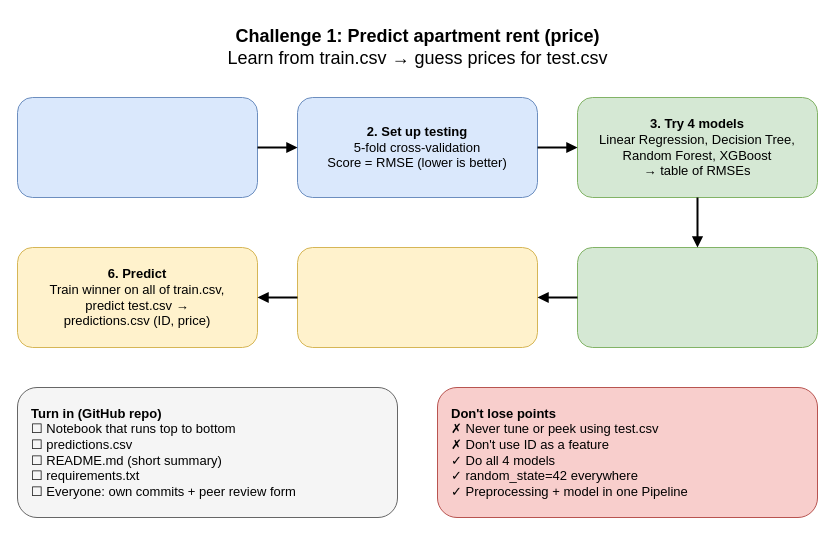
This 835x535 diagram has some shape labels left out. Each missing label, with the centre of its shape:
"1. Clean the data Fill blanks, turn word columns into 0/1 (use train.csv only)" goes at pixel 137 147.
"4. Tune them GridSearchCV to find best settings" goes at pixel 697 297.
"5. Pick the winner Lowest RMSE, not overfitting. Write a few sentences why." goes at pixel 417 297.
